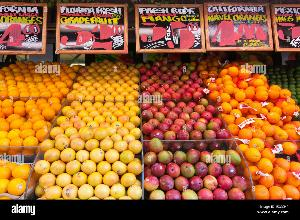apple: (144, 140, 252, 202), (38, 148, 144, 199), (38, 101, 138, 147), (143, 104, 221, 140), (141, 55, 197, 101), (75, 73, 137, 101), (76, 58, 136, 73)
orange: (202, 58, 300, 98), (241, 144, 300, 200), (222, 99, 300, 139), (0, 98, 62, 146), (0, 63, 78, 98), (1, 153, 32, 199)
